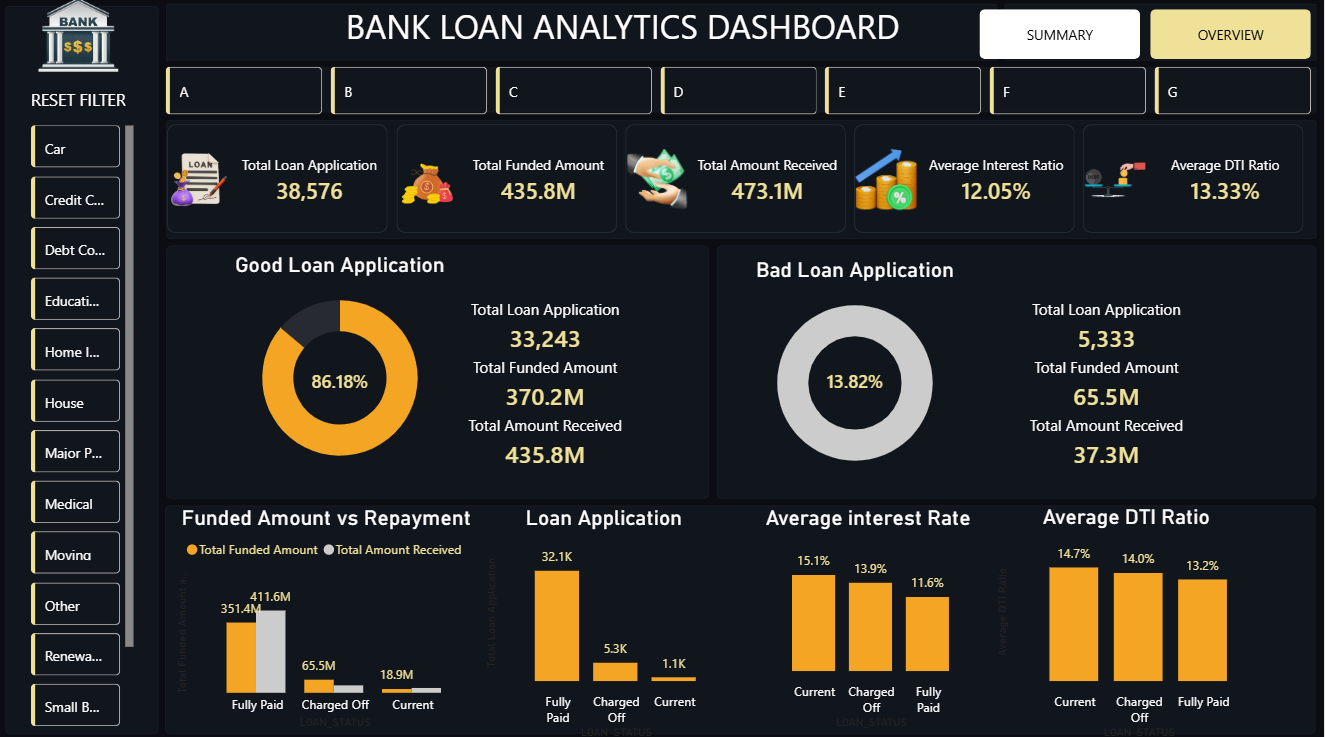

Layout of this report page (visuals, bound fields, positions):
{"tool":"powerbi","page":{"name":"SUMMARY","canvas":[1280,720],"ordinal":0},"visuals":[{"type":"cardVisual","fields":{"Data":["financial_loan.TOTAL LOAN APPLICATION","financial_loan.TOTAL FUNDED AMOUNT","financial_loan.TOTAL RECEIVED","financial_loan.AVERAGE INTEREST RATE","financial_loan.AVERAGE DTI RATE"]},"box":[147.2,105,1132.8,139.9],"z":0},{"type":"donutChart","title":"Good Loan Application","fields":{"Category":["financial_loan.Good_vs_Bad_Loan"],"Y":["financial_loan.Total Loan Application"]},"box":[108.6,244.9,445.2,220.8],"z":1000},{"type":"cardVisual","fields":{"Data":["financial_loan.Good Loan %"]},"box":[236.5,313.7,189.4,111],"z":2000},{"type":"donutChart","title":"Bad Loan Application","fields":{"Y":["financial_loan.Bad Loan%"]},"box":[605.6,249.7,445.2,220.8],"z":3000},{"type":"cardVisual","fields":{"Data":["financial_loan.Bad Loan%"]},"box":[733.5,313.7,189.4,111],"z":4000},{"type":"cardVisual","fields":{"Data":["financial_loan.TOTAL LOAN APPLICATION","financial_loan.TOTAL FUNDED AMOUNT","financial_loan.TOTAL RECEIVED"],"Rows":["financial_loan.Good_vs_Bad_Loan"]},"box":[381.5,220.9,296.4,269],"z":5000},{"type":"cardVisual","fields":{"Data":["financial_loan.TOTAL LOAN APPLICATION","financial_loan.TOTAL FUNDED AMOUNT","financial_loan.TOTAL RECEIVED"],"Rows":["financial_loan.Good_vs_Bad_Loan"]},"box":[922.9,220.8,296.8,269],"z":6000},{"type":"clusteredColumnChart","title":"Funded Amount vs Repayment","fields":{"Category":["financial_loan.LOAN_STATUS"],"Y":["financial_loan.Total Funded Amount","financial_loan.Total Amount Received"]},"box":[168.9,489.8,298,220.8],"z":7000},{"type":"clusteredColumnChart","title":"Loan Application","fields":{"Category":["financial_loan.LOAN_STATUS"],"Y":["financial_loan.Total Loan Application"]},"box":[466.9,489.8,237.7,230.4],"z":8000},{"type":"clusteredColumnChart","title":"Average interest Rate","fields":{"Category":["financial_loan.LOAN_STATUS"],"Y":["financial_loan.Average Interest Ratio"]},"box":[733.5,489.8,214.7,220.8],"z":9000},{"type":"clusteredColumnChart","title":"Average DTI Ratio","fields":{"Category":["financial_loan.LOAN_STATUS"],"Y":["financial_loan.Average DTI Ratio"]},"box":[960.3,488.6,259.4,231.6],"z":10000},{"type":"image","box":[9.7,0,137.5,71.2],"z":11000},{"type":"advancedSlicerVisual","fields":{"Values":["financial_loan.GRADE"]},"box":[158,61.5,1122,56.7],"z":11001},{"type":"advancedSlicerVisual","fields":{"Values":["financial_loan.PURPOSE"]},"box":[27.7,118.2,109.8,592.4],"z":11002},{"type":"actionButton","box":[9.7,77.2,137.5,41],"z":11003},{"type":"textbox","box":[331.8,0,604.4,61.5],"z":11004},{"type":"pageNavigator","box":[948.3,10.9,320.9,48.3],"z":11005}]}

Visuals, with their boxes in screenshot pixels (x1, y1, x2, y2), scaled from the page's 1280x720 canvas onto the 1325x737 screenshot:
cardVisual - financial_loan.TOTAL LOAN APPLICATION x financial_loan.TOTAL FUNDED AMOUNT: crop(152, 107, 1324, 251)
"Good Loan Application" donutChart: crop(112, 251, 573, 477)
cardVisual - financial_loan.Good Loan %: crop(245, 321, 441, 435)
"Bad Loan Application" donutChart: crop(627, 256, 1088, 482)
cardVisual - financial_loan.Bad Loan%: crop(759, 321, 955, 435)
cardVisual - financial_loan.TOTAL LOAN APPLICATION x financial_loan.TOTAL FUNDED AMOUNT: crop(395, 226, 702, 501)
cardVisual - financial_loan.TOTAL LOAN APPLICATION x financial_loan.TOTAL FUNDED AMOUNT: crop(955, 226, 1263, 501)
"Funded Amount vs Repayment" clusteredColumnChart: crop(175, 501, 483, 727)
"Loan Application" clusteredColumnChart: crop(483, 501, 729, 736)
"Average interest Rate" clusteredColumnChart: crop(759, 501, 982, 727)
"Average DTI Ratio" clusteredColumnChart: crop(994, 500, 1263, 736)
image: crop(10, 0, 152, 73)
advancedSlicerVisual - financial_loan.GRADE: crop(164, 63, 1324, 121)
advancedSlicerVisual - financial_loan.PURPOSE: crop(29, 121, 142, 727)
actionButton: crop(10, 79, 152, 121)
textbox: crop(343, 0, 969, 63)
pageNavigator: crop(982, 11, 1314, 61)
